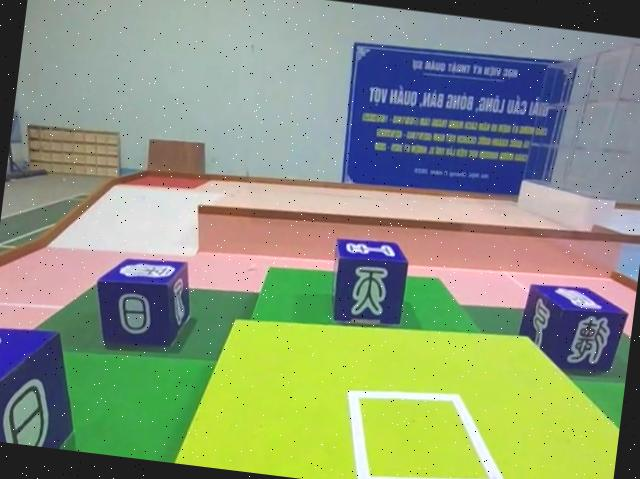R2 Fake Blue: (515, 279, 632, 380), (87, 252, 196, 360), (0, 325, 87, 450), (325, 236, 412, 333)
